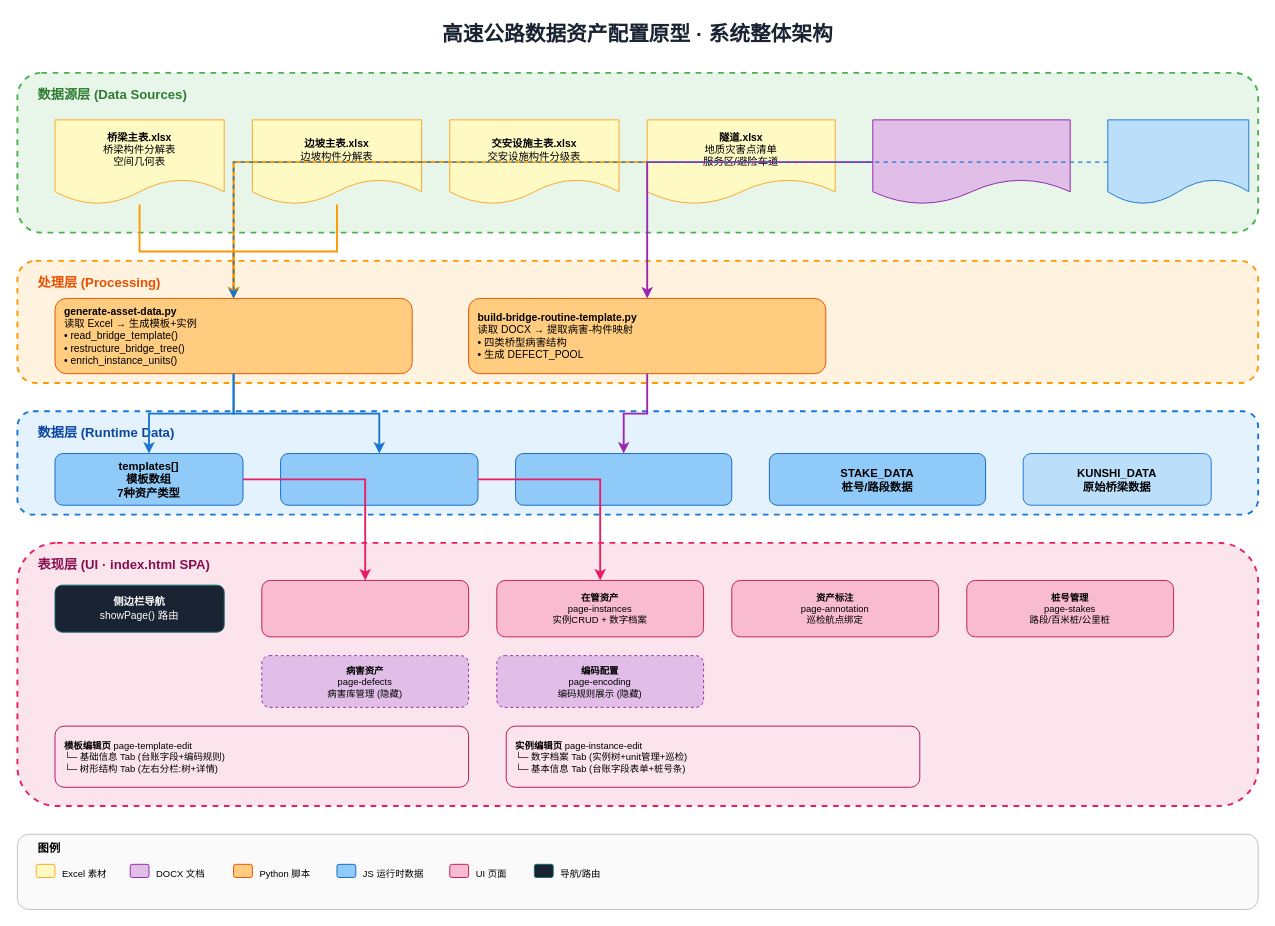
The diagram is 1275 pixels wide and 926 high, and some of its shapes have lost their labels. Here are the shapes that lost their labels. From the top down, the box of each, then its label:
(872, 119, 1070, 204): 桥梁经常化巡检.docx 四类桥梁病害-构件映射
(1107, 119, 1249, 204): kunshi-data.js 原始桥梁数据 (L1-L8 树+实例)
(280, 453, 478, 505): instances[] 实例数组 含台账+结构树+巡检
(515, 453, 732, 505): DEFECT_POOL[] 病害库 (d1-d8 / br-d001+)
(261, 580, 469, 637): 资产模版 page-templates 模板CRUD + 树形结构编辑
